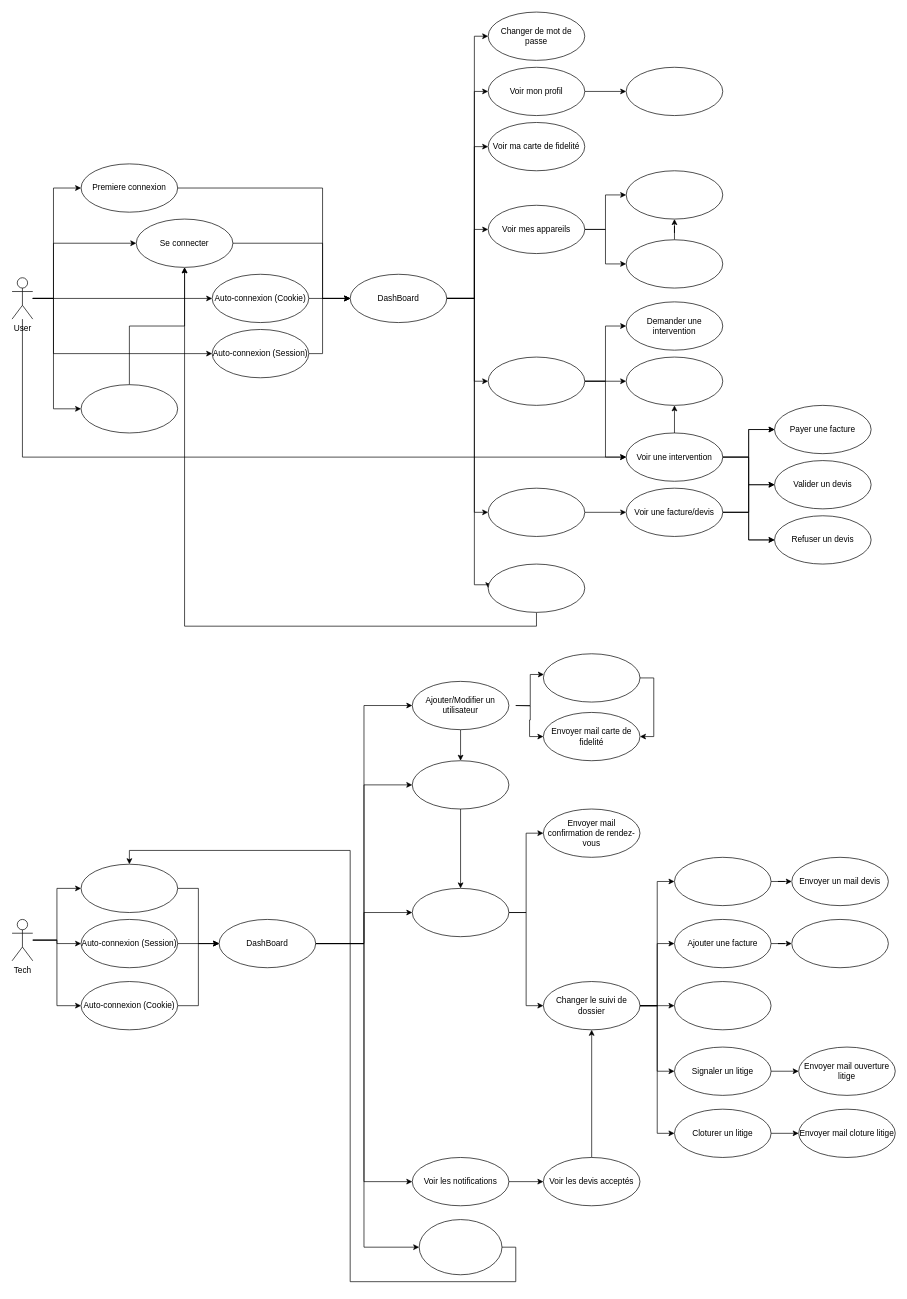
Some shapes in this 907 by 1299 pixel diagram are drawn without their labels. The centre of each missing label's shape, as x and y in pixels:
"Ajouter un devis" belongs at pixel 722 881.
"Ajouter un offset fidelité" belongs at pixel 591 677.
"Ajouter/Modifier un apareil" belongs at pixel 460 784.
"Ajouter/modifier une intervention" belongs at pixel 460 912.
"Annuler une intervention" belongs at pixel 674 380.
"Connexion" belongs at pixel 129 888.
"Envoyer mail facture" belongs at pixel 839 943.
"Me deconnecter" belongs at pixel 460 1247.
"Me déconnecter" belongs at pixel 536 587.
"Modifier mon profil" belongs at pixel 674 91.
"Mot de passe oublié" belongs at pixel 129 408.
"Supprimer un appareil" belongs at pixel 674 194.
"Valider le payement" belongs at pixel 722 1005.
"Voir mes facture/devis" belongs at pixel 536 511.
"Voir mes interventions" belongs at pixel 536 380.
"Voir un appareil" belongs at pixel 674 263.
